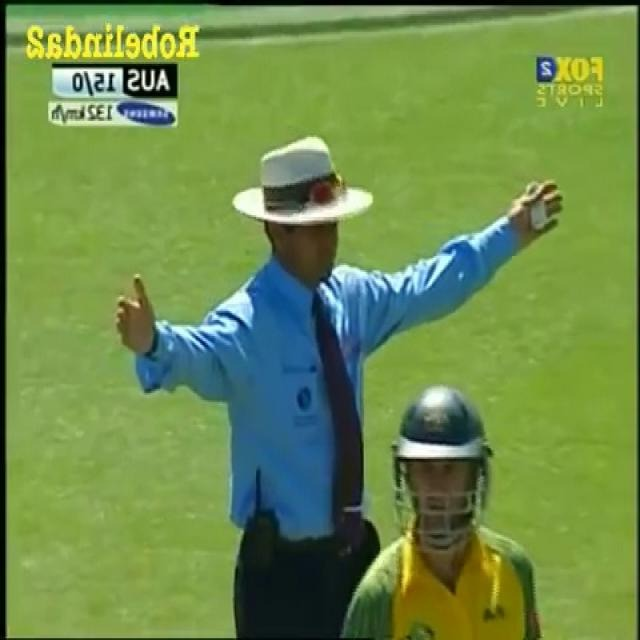Wide: (105, 120, 570, 440)
